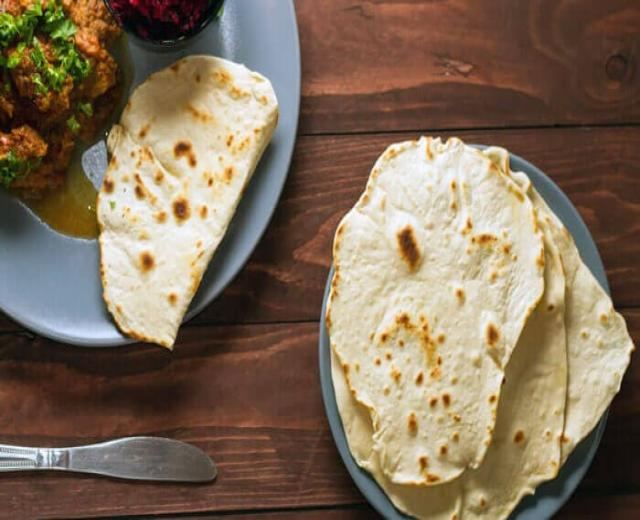chapati: (326, 137, 542, 490)
